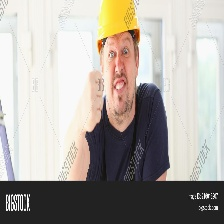helmet: (94, 0, 145, 55)
no-vest: (85, 96, 173, 180)
person: (86, 3, 169, 177)
